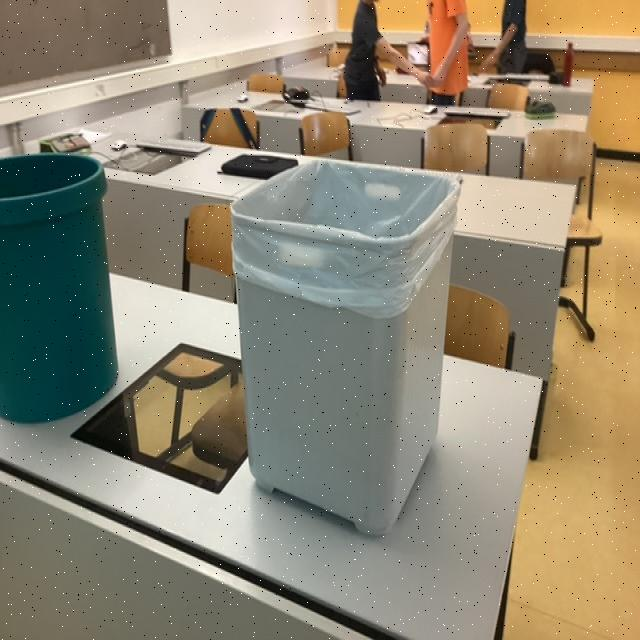garbage container: (198, 113, 474, 558), (0, 107, 135, 474)
